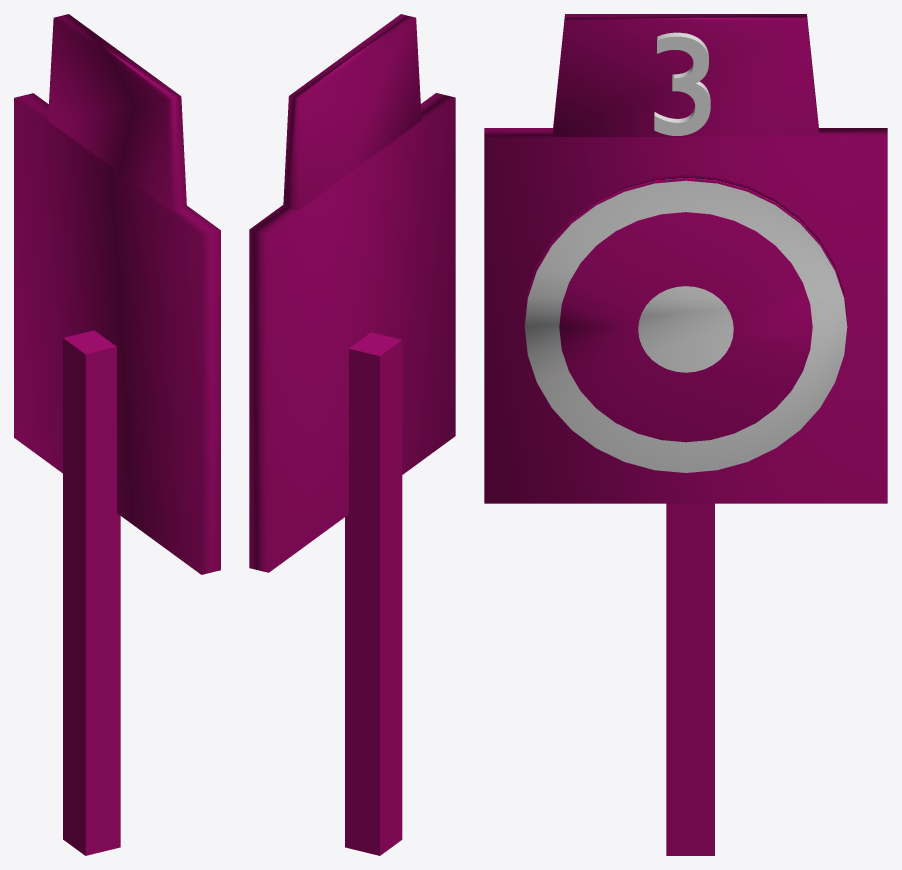
The model's file is Target3Pink.fbx.
The picture shows the model from 3 angles, left to right: view 1: azimuth 30°, elevation 25°; view 2: azimuth 150°, elevation 25°; view 3: azimuth 270°, elevation 25°; orthographic projection. The views are drawn at different scales.
Visible parts, largest first — view 1: Target3Pink; view 2: Target3Pink; view 3: Target3Pink, 3.001.
Part boxes in pixels (x1,y1,x2,y2): Target3Pink: (14,14,220,855); Target3Pink: (249,14,455,855); Target3Pink: (484,14,887,855); 3.001: (654,32,710,135).
Size of the model in its own units: 20.6 by 230 by 100.
